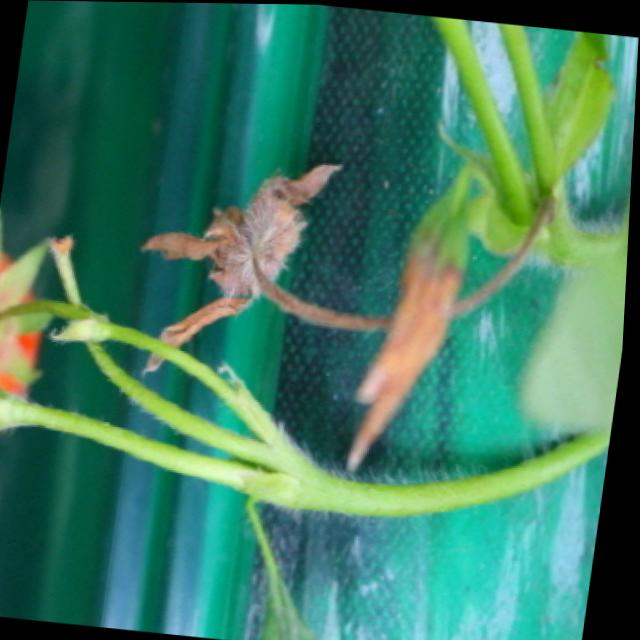Gray Mold: (141, 158, 344, 373)
